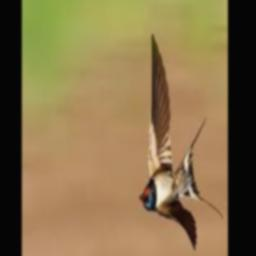Swallow: (138, 33, 223, 251)
